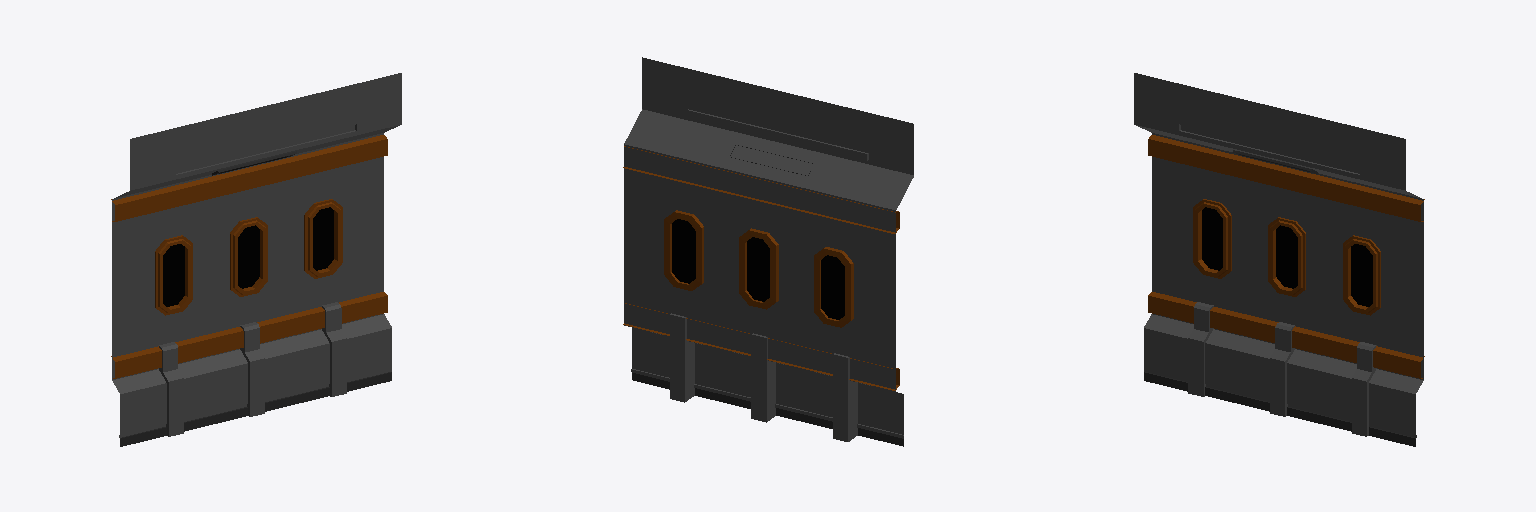
The model's file is ThreeWindows_Wall_SideB.obj.
The picture shows the model from 3 angles: view 1: azimuth 30°, elevation 25°; view 2: azimuth 150°, elevation 25°; view 3: azimuth 330°, elevation 25°; orthographic projection.
Parts seen in each view (by area): view 1: ThreeWindows_Wall_SideB_Plane.036; view 2: ThreeWindows_Wall_SideB_Plane.036; view 3: ThreeWindows_Wall_SideB_Plane.036.
Part boxes in pixels (x1,y1,x2,y2): ThreeWindows_Wall_SideB_Plane.036: (111,73,401,446); ThreeWindows_Wall_SideB_Plane.036: (623,57,913,446); ThreeWindows_Wall_SideB_Plane.036: (1134,73,1424,446).
Bounding box in the file's own units: 4 × 4.43 × 0.5261.